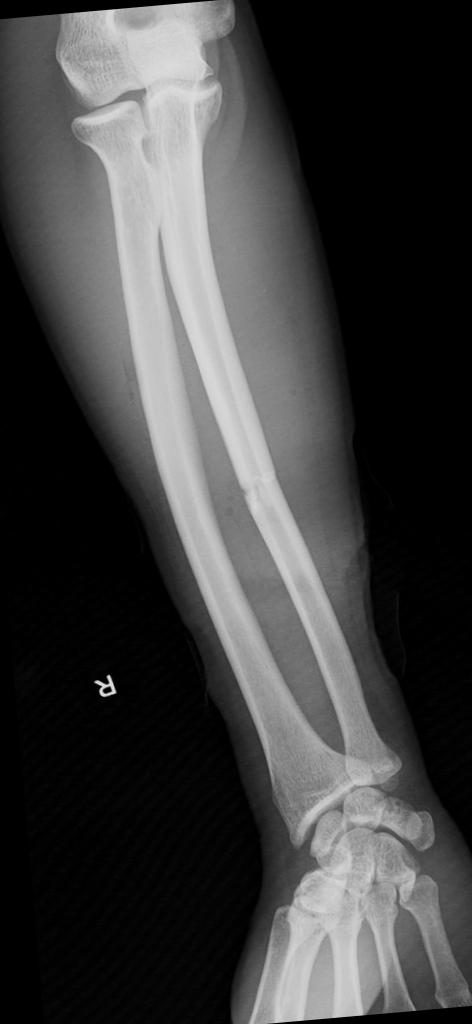fracture: (235, 463, 284, 505)
